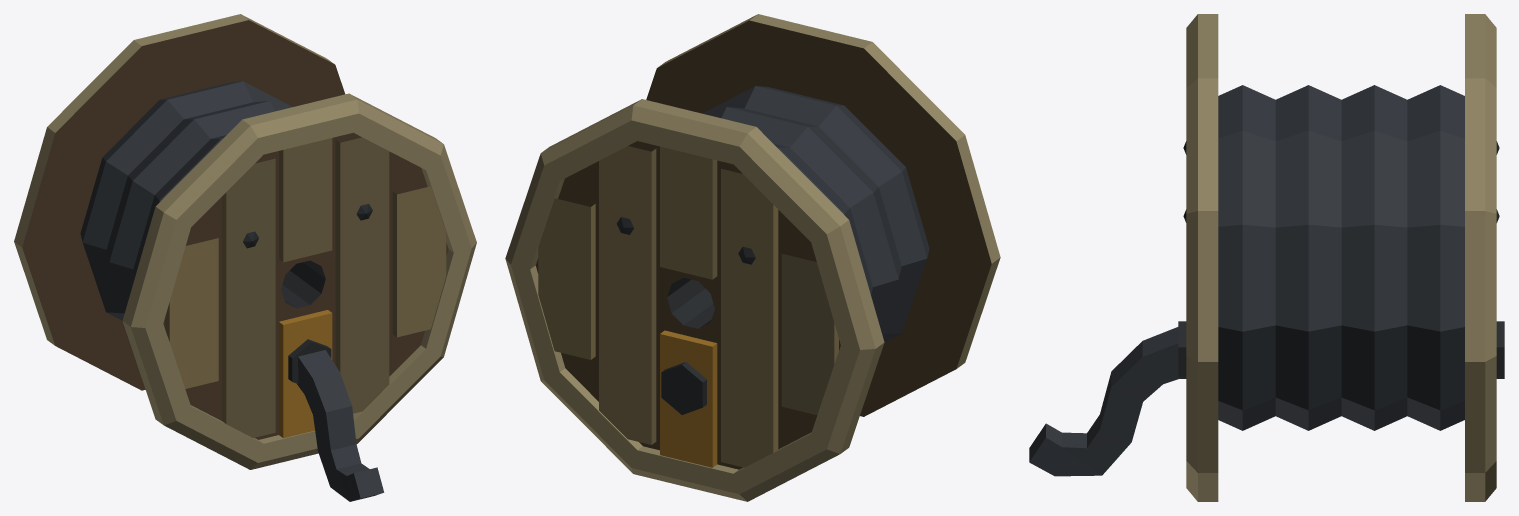
File: disk.glb
3 views of the same model, side by side, from view 1: azimuth 30°, elevation 25°; view 2: azimuth 150°, elevation 25°; view 3: azimuth 270°, elevation 25° (orthographic). The views are drawn at different scales.
Parts seen in each view (by area): view 1: drum, cable-tail-mesh; view 2: drum; view 3: drum, cable-tail-mesh.
Part boxes in pixels (box(x1,y1,x2,y2)): drum: box(14, 14, 476, 469); cable-tail-mesh: box(297, 350, 384, 501); drum: box(505, 14, 1000, 501); drum: box(1178, 14, 1504, 501); cable-tail-mesh: box(1029, 327, 1184, 476).
Bounding box in the file's own units: 1.16 × 1.1 × 1.12.
